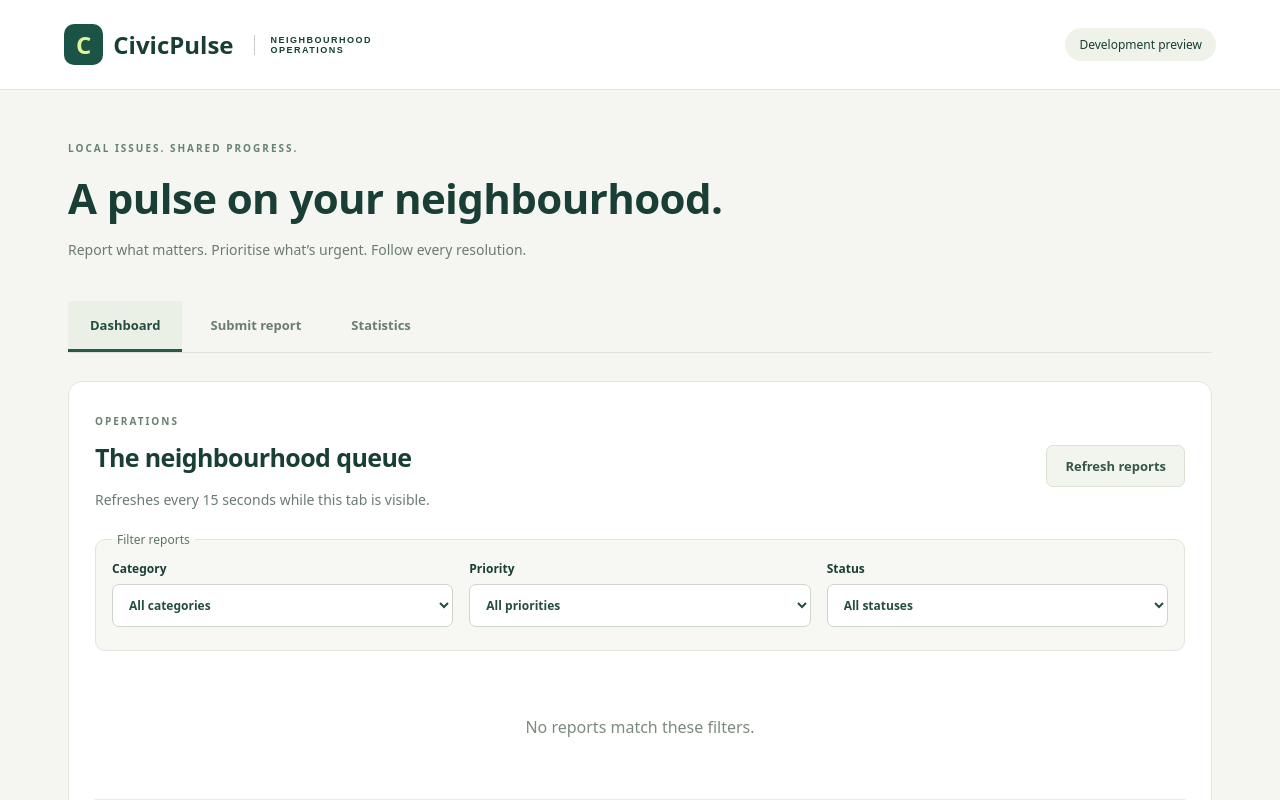
Test: frontend foundation › returns home through the brand link
Click the button "Statistics".
click(381, 326)  # box [329,301,433,352]
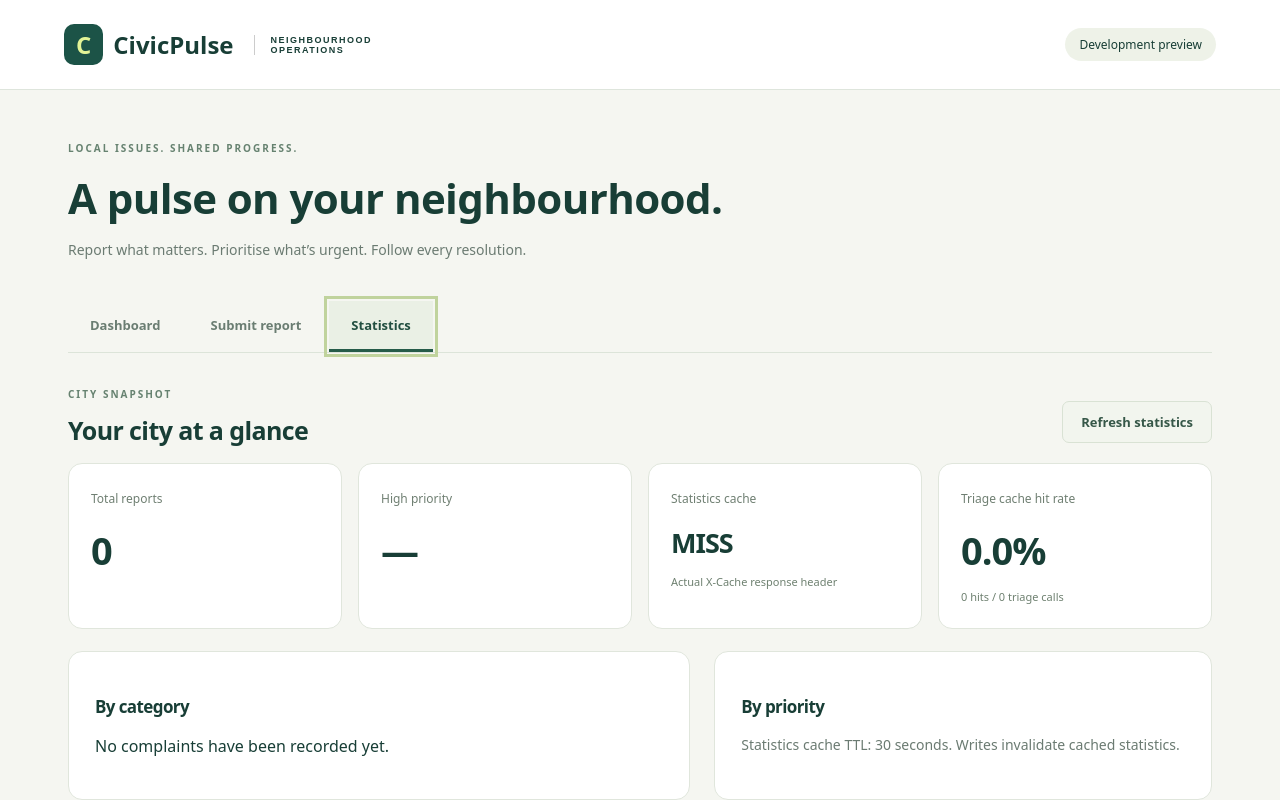
Click the link "C CivicPulse NEIGHBOURHOOD OPERATIONS".
click(229, 44)  # box [64,24,394,65]
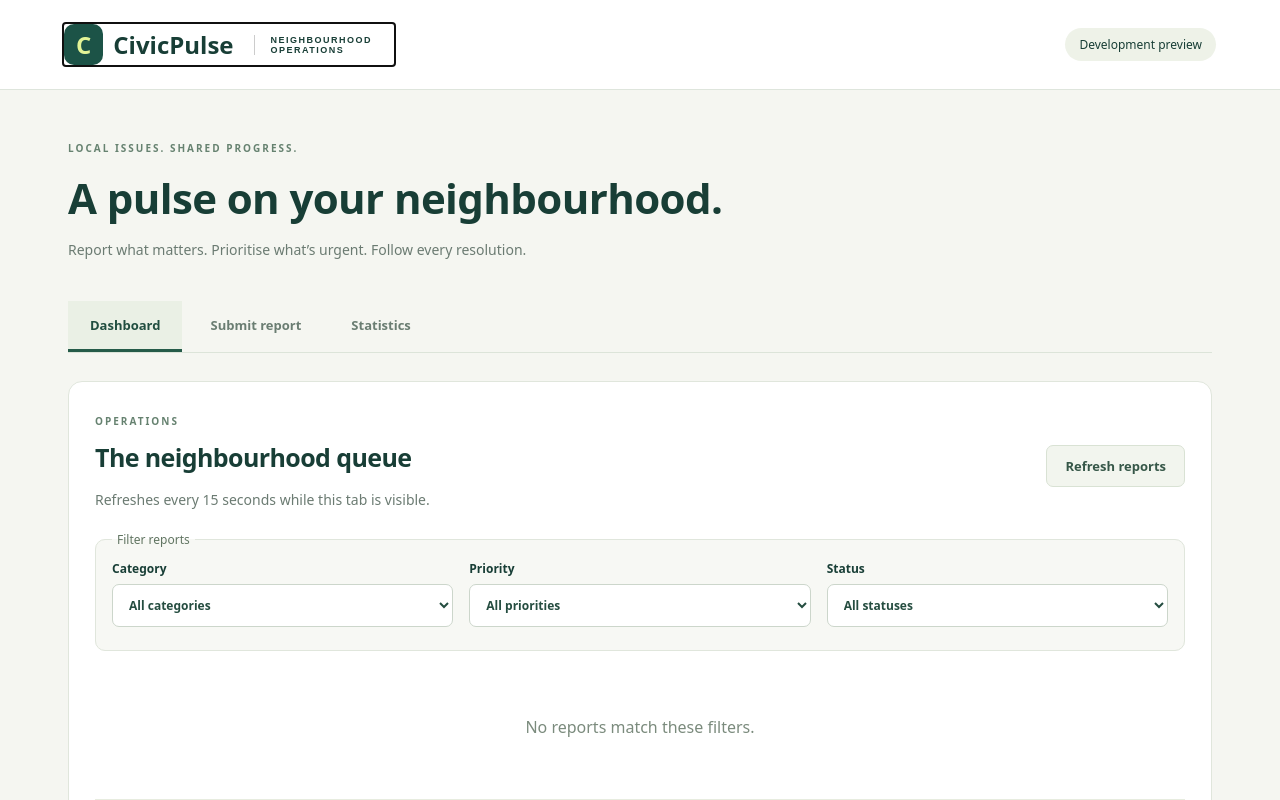
Expected: the heading "The neighbourhood queue" is shown, [95,440,430,474]
